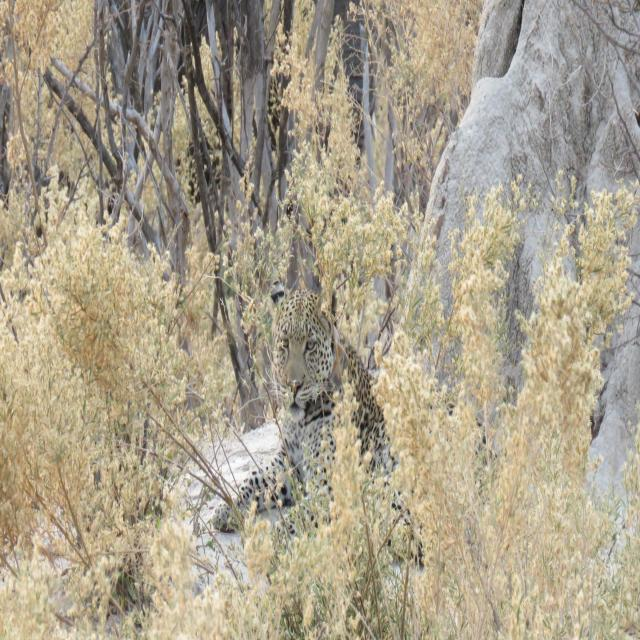Leopard: (224, 274, 486, 596)
